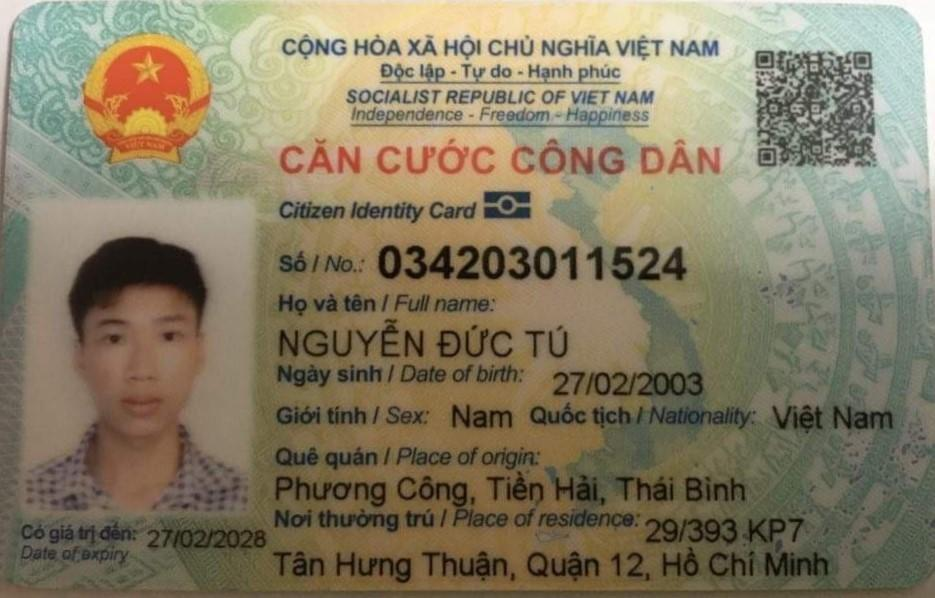ID: (366, 233, 709, 288)
birth: (548, 360, 710, 407)
name: (268, 319, 573, 362)
place: (266, 470, 759, 509)
residence: (263, 543, 840, 591), (634, 513, 820, 548)
